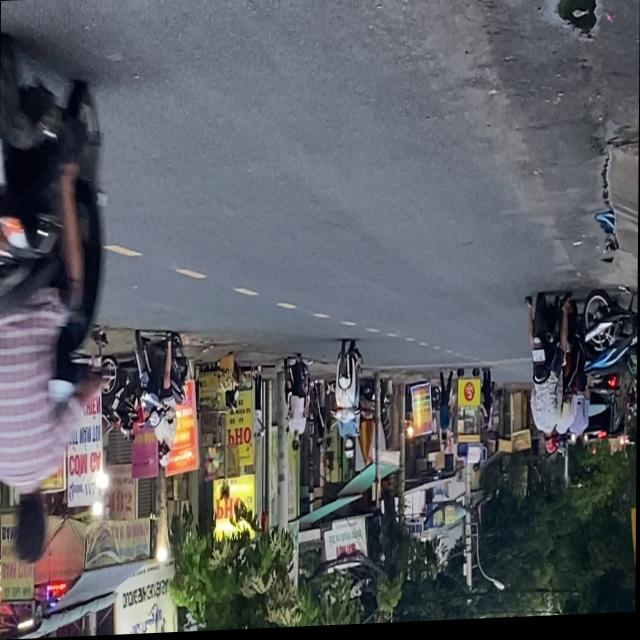helmet: (156, 441, 170, 468), (543, 436, 557, 460), (343, 442, 353, 462)
licenseplate: (0, 30, 112, 570), (132, 328, 189, 470), (524, 295, 568, 463), (331, 341, 364, 462)
motorcyclist: (10, 487, 49, 567)
nohelmet: (532, 354, 544, 367)
